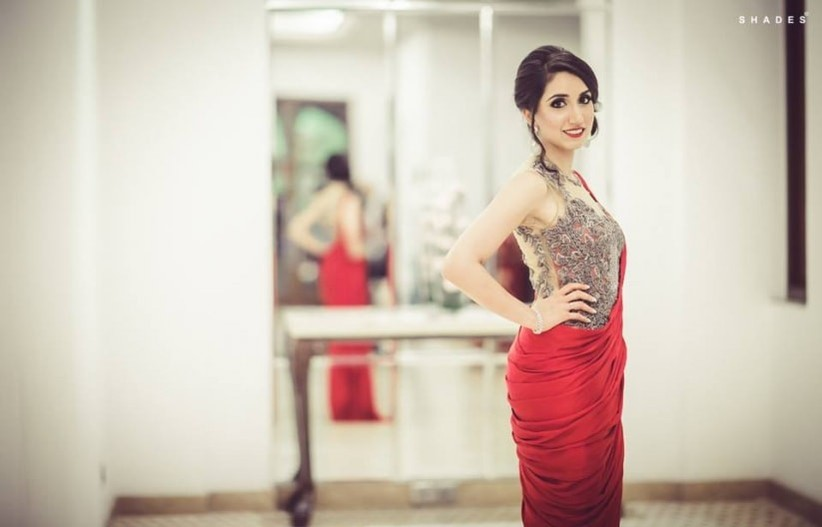person: (462, 35, 656, 524)
